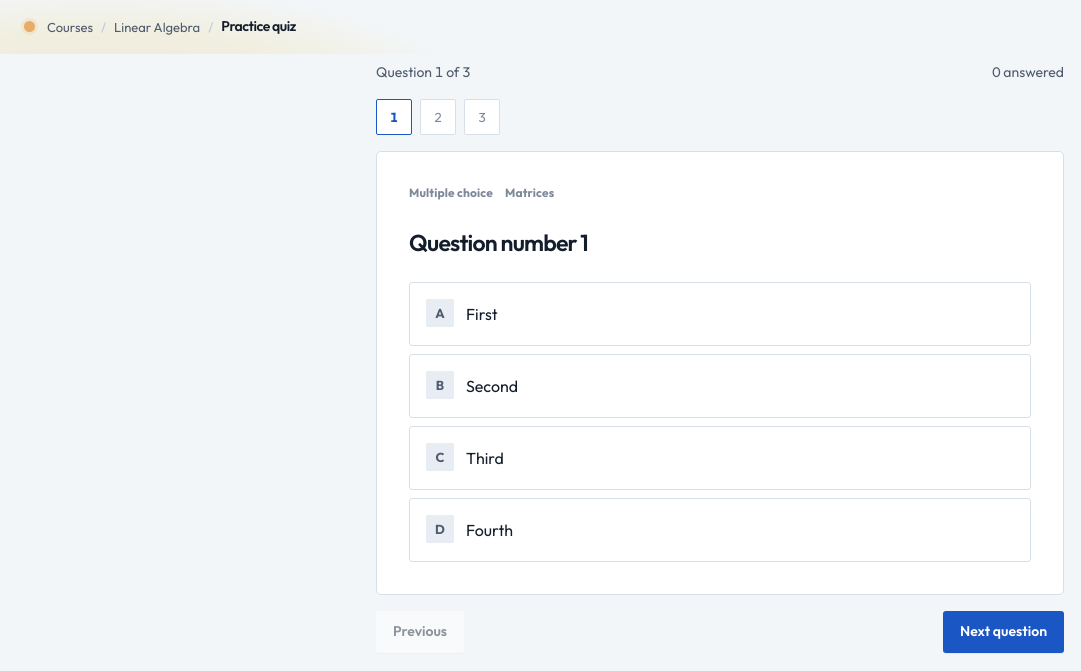
answering an ordinary practice quiz › marks in the navigator which questions have been answered
Expected: the button named "Question 1, not answered" is shown, top-left (376, 99), bottom-right (412, 135)
What coordinates should you click on to do the following:
click the radio button labelled "Second"
I would click on:
 (492, 386)
Its box is top-left (409, 354), bottom-right (1031, 418).
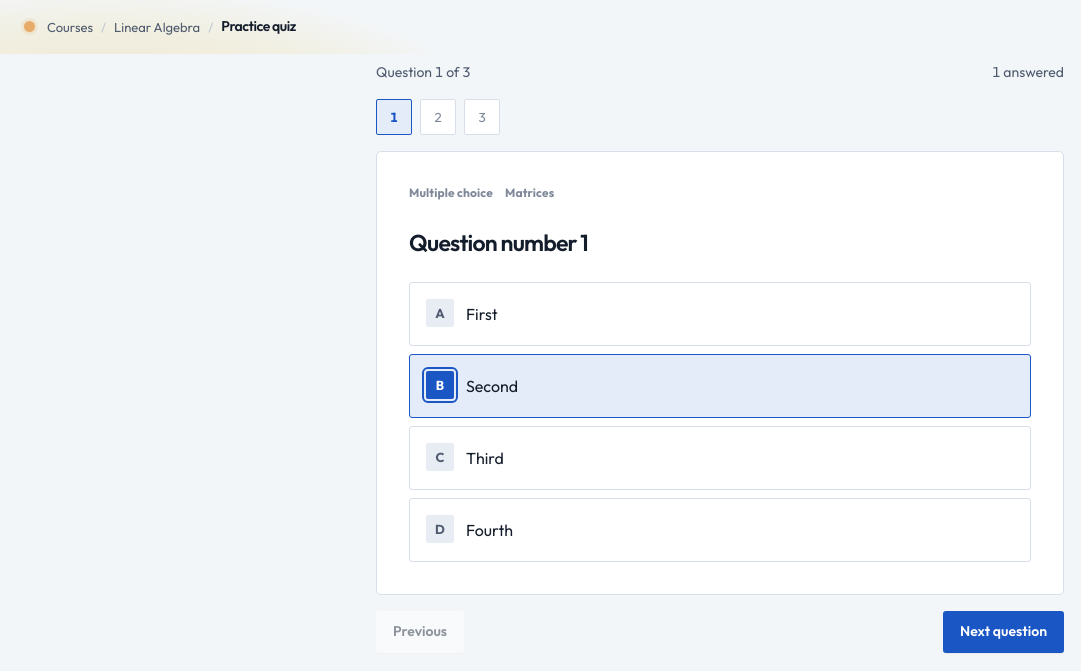
Expected: the button named "Question 2, not answered" is shown, top-left (420, 99), bottom-right (456, 135)
Expected: the button named "Question 1, answered" is shown, top-left (376, 99), bottom-right (412, 135)
